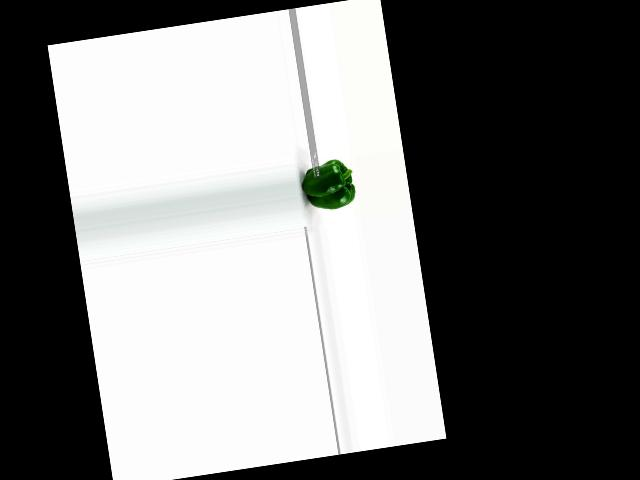bell_pepper: (297, 157, 360, 215)
